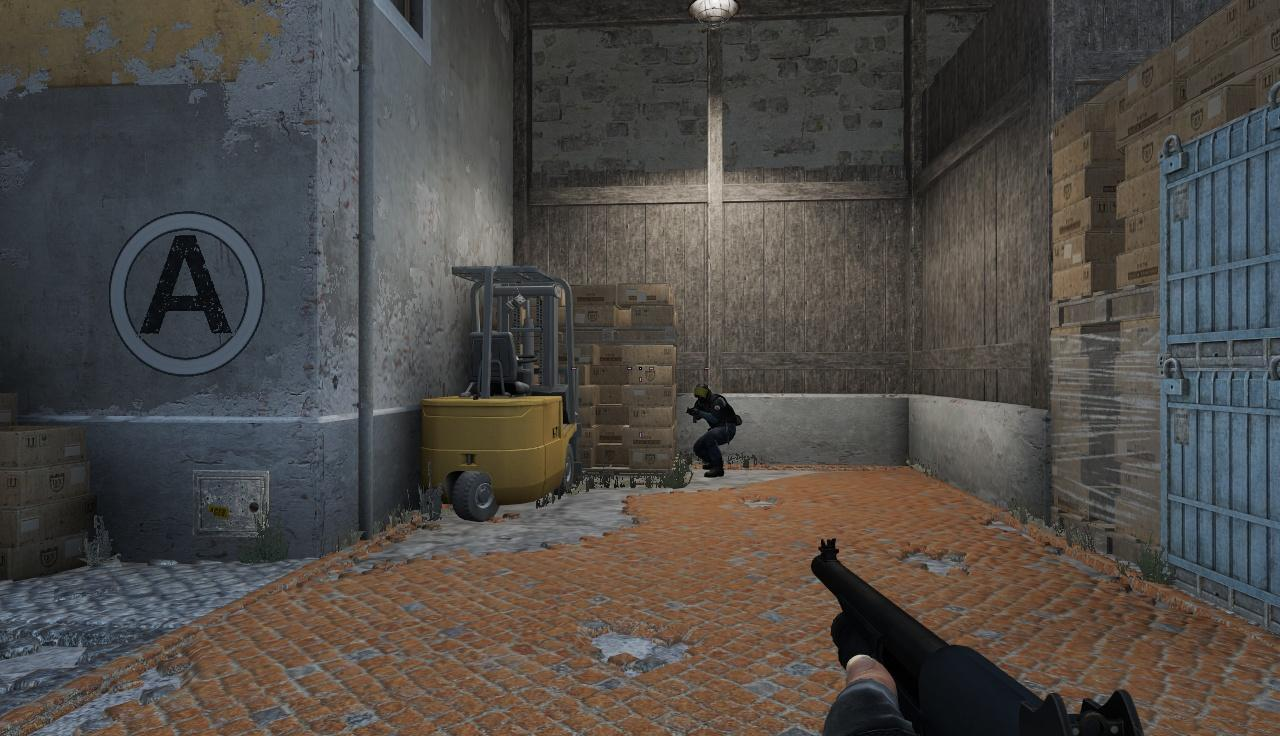ct: (690, 384, 735, 475)
cthead: (694, 384, 710, 400)
shotgun: (809, 535, 1150, 736)
